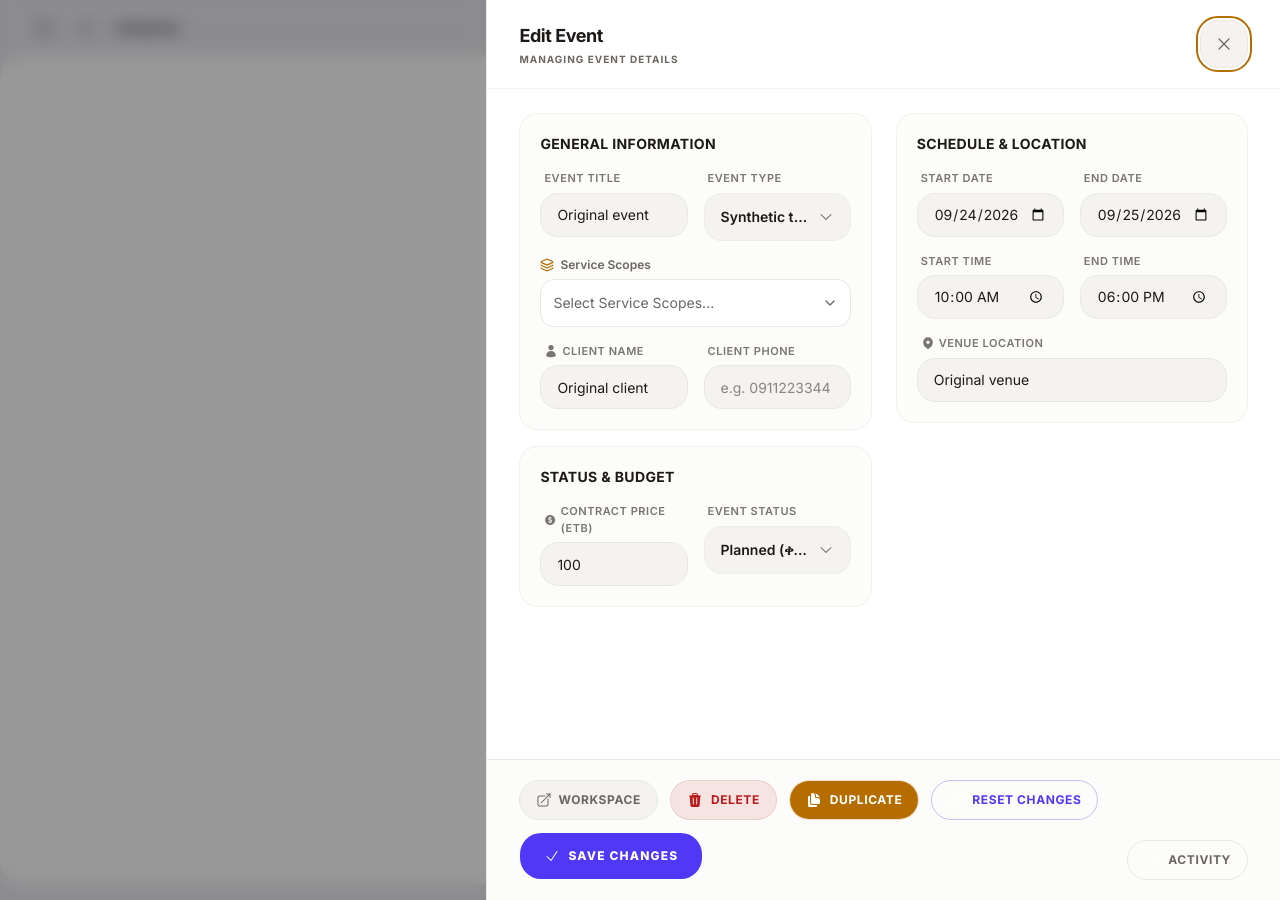
owned Event and Employee private drafts › primary target #303 preserves event submit identity payload and one settled success
Click the button "Save Changes". click: [611, 856]
box: [519,832,704,880]
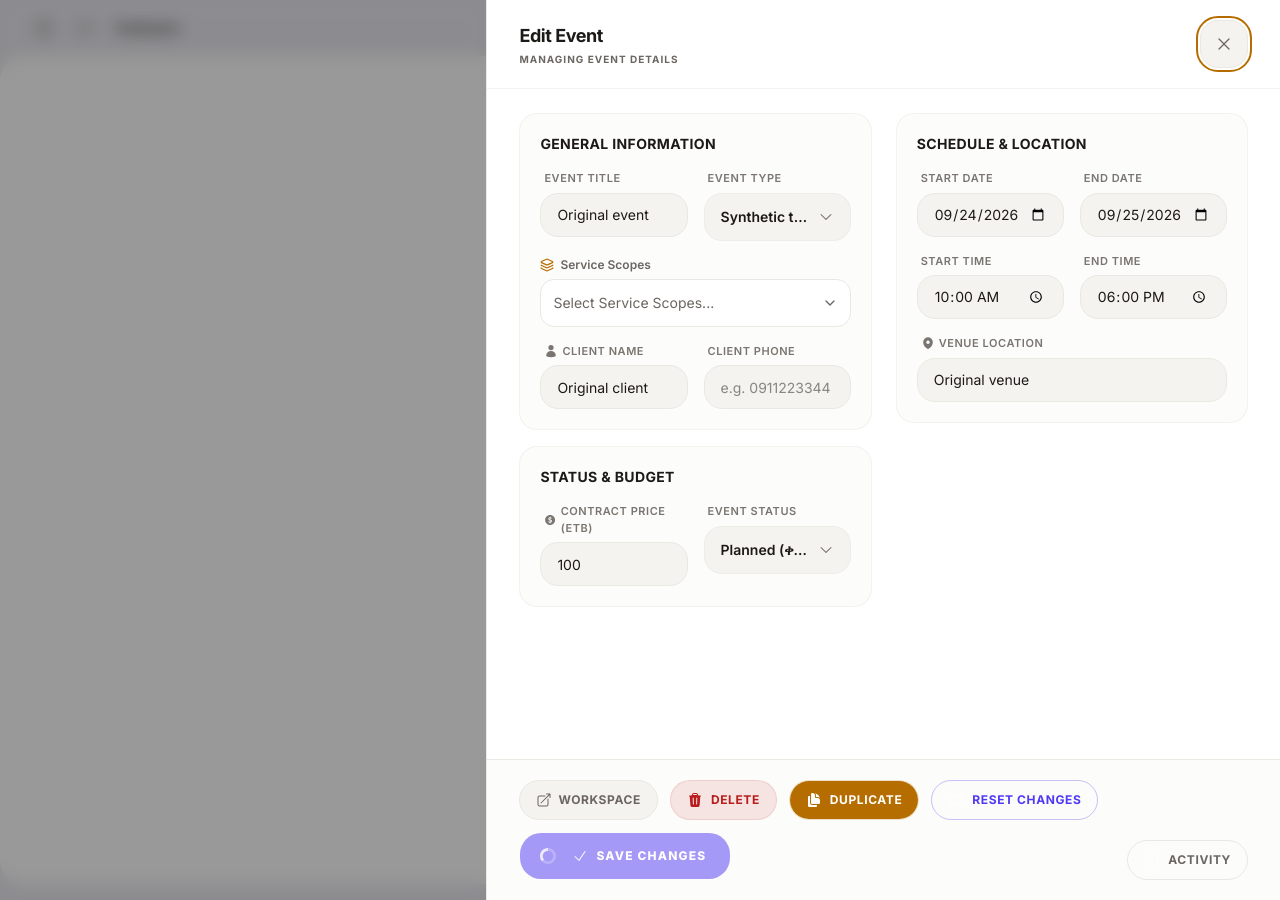
Result: the button "Save Changes" is disabled at [519,832,732,880]
